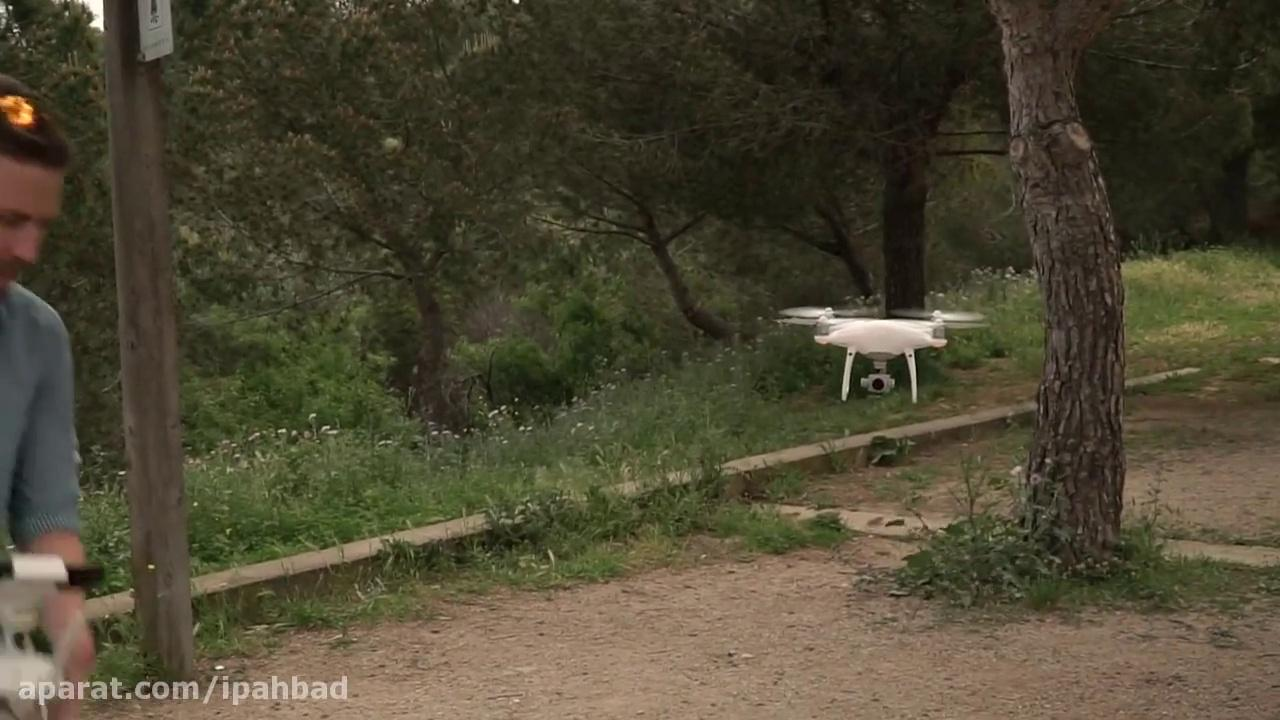drone: (764, 302, 996, 405)
